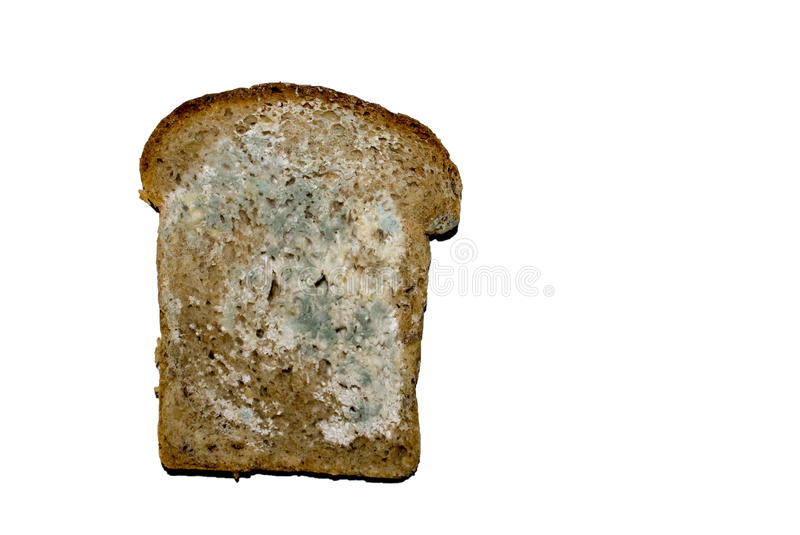Mucor: (248, 244, 416, 448), (186, 135, 297, 236), (303, 103, 395, 191)
